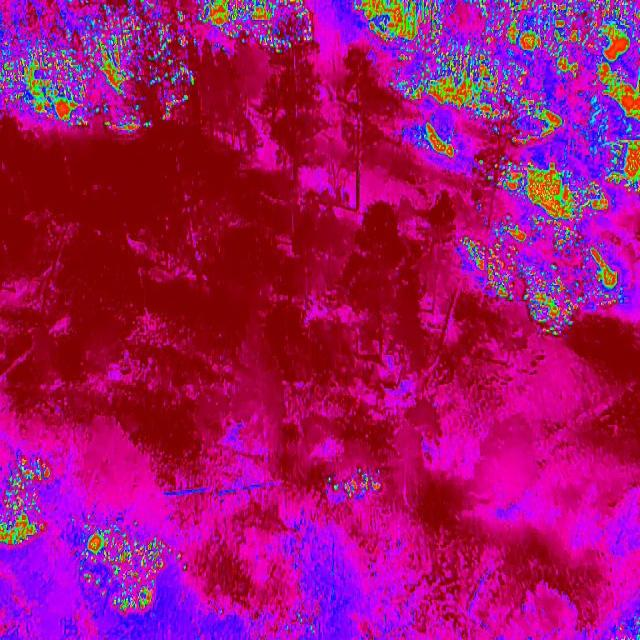fire: (462, 156, 640, 339), (0, 0, 200, 141), (397, 48, 640, 158), (351, 0, 640, 49), (74, 516, 164, 616), (199, 0, 319, 58), (0, 458, 53, 548), (324, 465, 385, 505)
